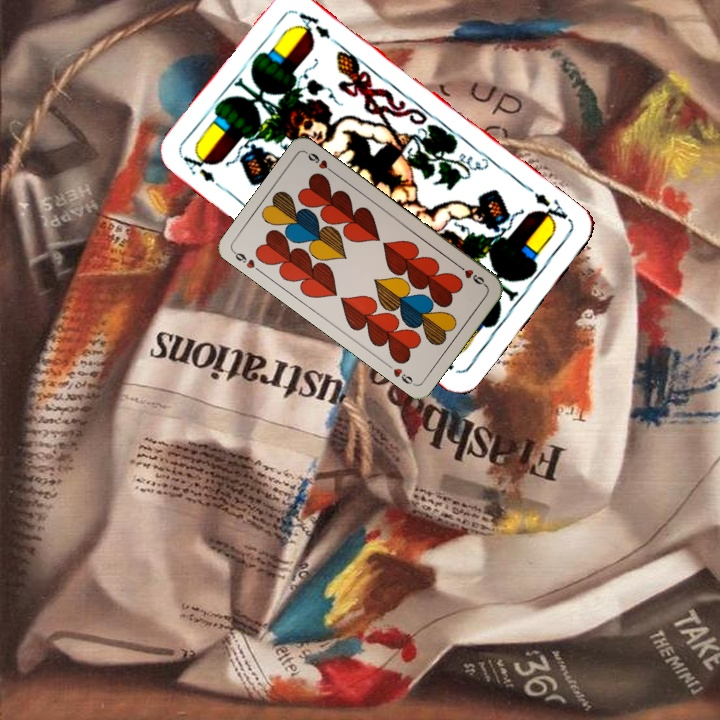EA: (179, 148, 229, 194), (530, 188, 574, 230)
H9: (230, 247, 265, 276), (454, 261, 489, 289)
